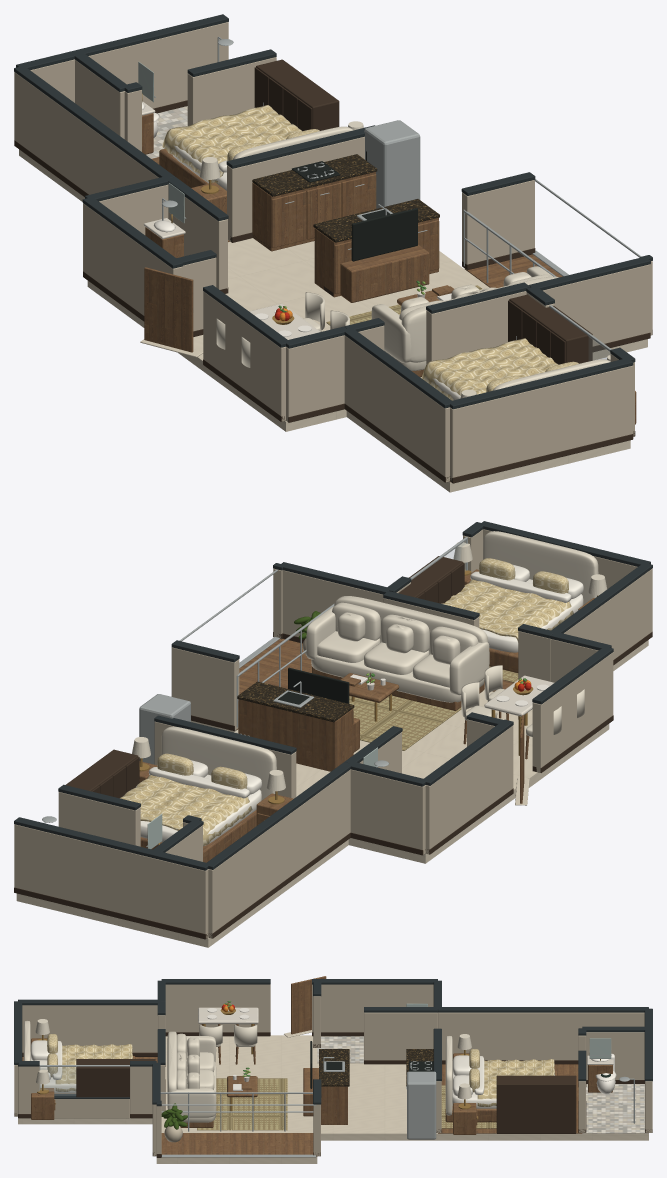
Rendered from lavista-09.glb.
3 renders of one model, top to bottom at view 1: azimuth 30°, elevation 25°; view 2: azimuth 150°, elevation 25°; view 3: azimuth 270°, elevation 25°, orthographic. The views are drawn at different scales.
Parts seen in each view (by area): view 1: Apartment foundation, Ivory masonry.005, Ivory masonry.011, Ivory masonry.006, Ivory masonry.012, Ivory masonry.002, Ivory masonry.008, Ivory masonry, Ivory masonry.009, Soft jacquard duvet with folds.003, Soft jacquard duvet with folds.004, Ivory masonry.007 (+43 smaller); view 2: Ivory masonry.012, Ivory masonry.011, Apartment foundation, Ivory masonry.009, Ivory masonry.008, Kitchen cabinetry.001, Ivory masonry.010, Soft jacquard duvet with folds.003, Ivory masonry, Soft jacquard duvet with folds.004, Ivory masonry.006, Padded headboard.004 (+56 smaller); view 3: Apartment foundation, Ivory masonry.011, Ivory masonry.006, Dark fitted wardrobe, Ivory masonry.008, Ivory masonry.009, Living woven carpet, Ivory masonry.017, Dark fitted wardrobe.001, Brushed refrigerator, Ivory masonry.015, Balcony · timber deck.001 (+54 smaller).
Boxes of the visible parts, bbox=[...] form: Apartment foundation: bbox=[19, 149, 647, 492]; Ivory masonry.005: bbox=[450, 365, 632, 482]; Ivory masonry.011: bbox=[14, 72, 158, 194]; Ivory masonry.006: bbox=[344, 335, 449, 482]; Ivory masonry.012: bbox=[30, 22, 228, 108]; Ivory masonry.002: bbox=[543, 264, 650, 346]; Ivory masonry.008: bbox=[203, 291, 285, 421]; Ivory masonry: bbox=[462, 180, 534, 264]; Ivory masonry.009: bbox=[83, 203, 182, 315]; Soft jacquard duvet with folds.003: bbox=[162, 105, 301, 184]; Soft jacquard duvet with folds.004: bbox=[421, 338, 558, 400]; Ivory masonry.007: bbox=[286, 335, 344, 421]; Ivory masonry.012: bbox=[14, 824, 208, 938]; Ivory masonry.011: bbox=[208, 769, 350, 938]; Apartment foundation: bbox=[16, 640, 648, 947]; Ivory masonry.009: bbox=[425, 725, 513, 854]; Ivory masonry.008: bbox=[532, 652, 613, 772]; Kitchen cabinetry.001: bbox=[238, 699, 353, 771]; Ivory masonry.010: bbox=[350, 769, 425, 854]; Soft jacquard duvet with folds.003: bbox=[120, 775, 252, 846]; Ivory masonry: bbox=[171, 647, 239, 730]; Soft jacquard duvet with folds.004: bbox=[441, 579, 573, 642]; Ivory masonry.006: bbox=[564, 568, 652, 659]; Padded headboard.004: bbox=[483, 531, 598, 604]; Apartment foundation: bbox=[18, 1035, 648, 1163]; Ivory masonry.011: bbox=[438, 1012, 644, 1060]; Ivory masonry.006: bbox=[22, 1005, 157, 1052]; Dark fitted wardrobe: bbox=[496, 1075, 576, 1133]; Ivory masonry.008: bbox=[165, 984, 270, 1032]; Ivory masonry.009: bbox=[312, 984, 433, 1032]; Living woven carpet: bbox=[197, 1078, 287, 1130]; Ivory masonry.017: bbox=[364, 1012, 437, 1060]; Dark fitted wardrobe.001: bbox=[76, 1059, 155, 1097]; Brushed refrigerator: bbox=[407, 1071, 436, 1139]; Ivory masonry.015: bbox=[586, 1032, 644, 1079]; Balcony · timber deck.001: bbox=[161, 1133, 313, 1154].
Size of the model in its own units: 6.08 by 1.37 by 12.33.
Materials: 25 (6 with a texture image).
